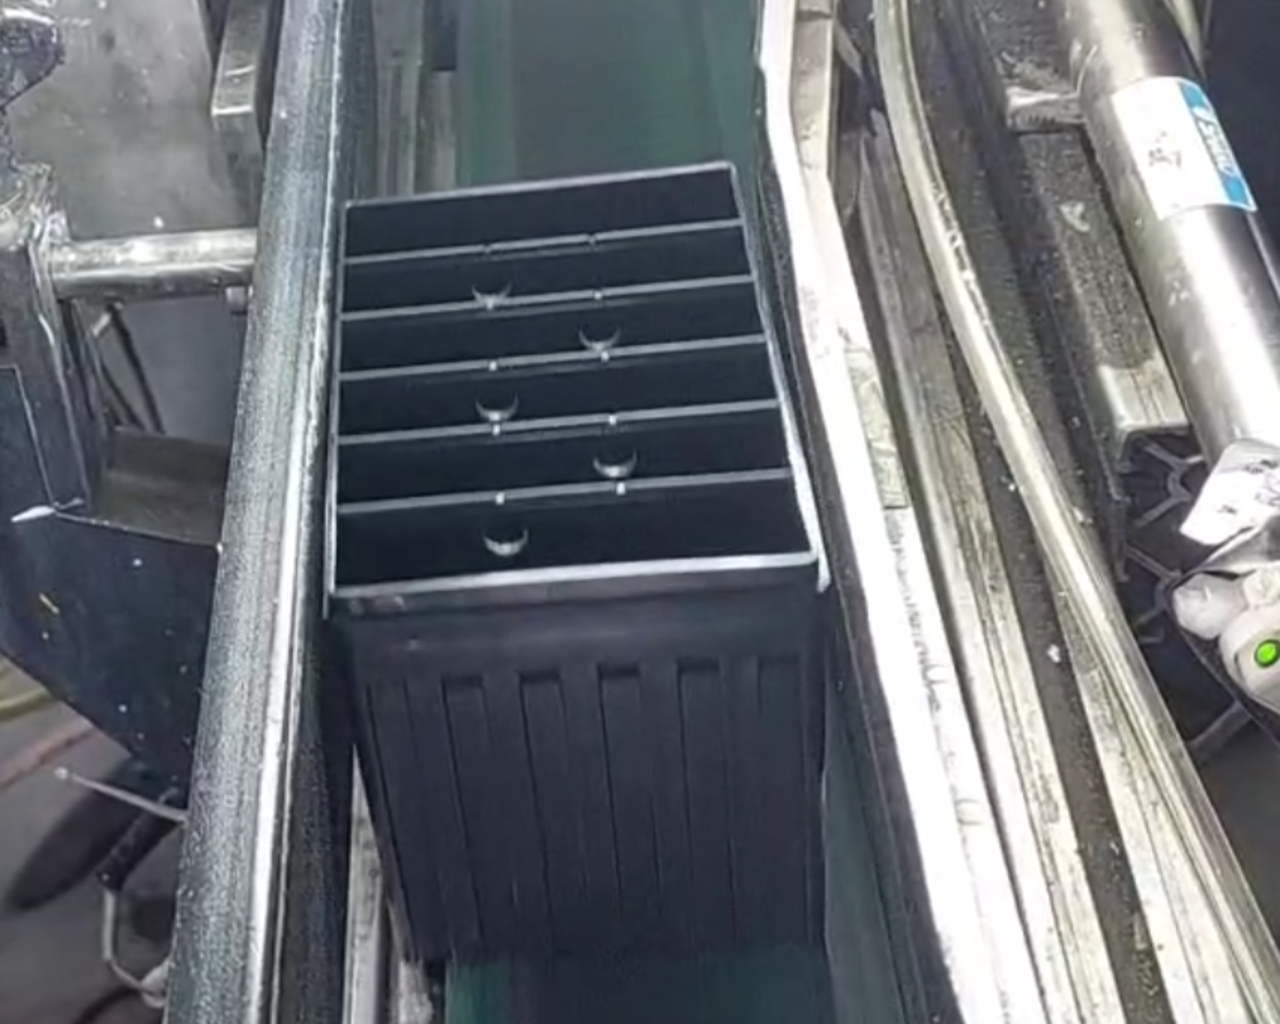box: (309, 147, 844, 635)
round: (472, 511, 540, 560), (583, 435, 646, 485), (461, 381, 528, 425), (568, 310, 631, 354), (461, 264, 517, 305)
